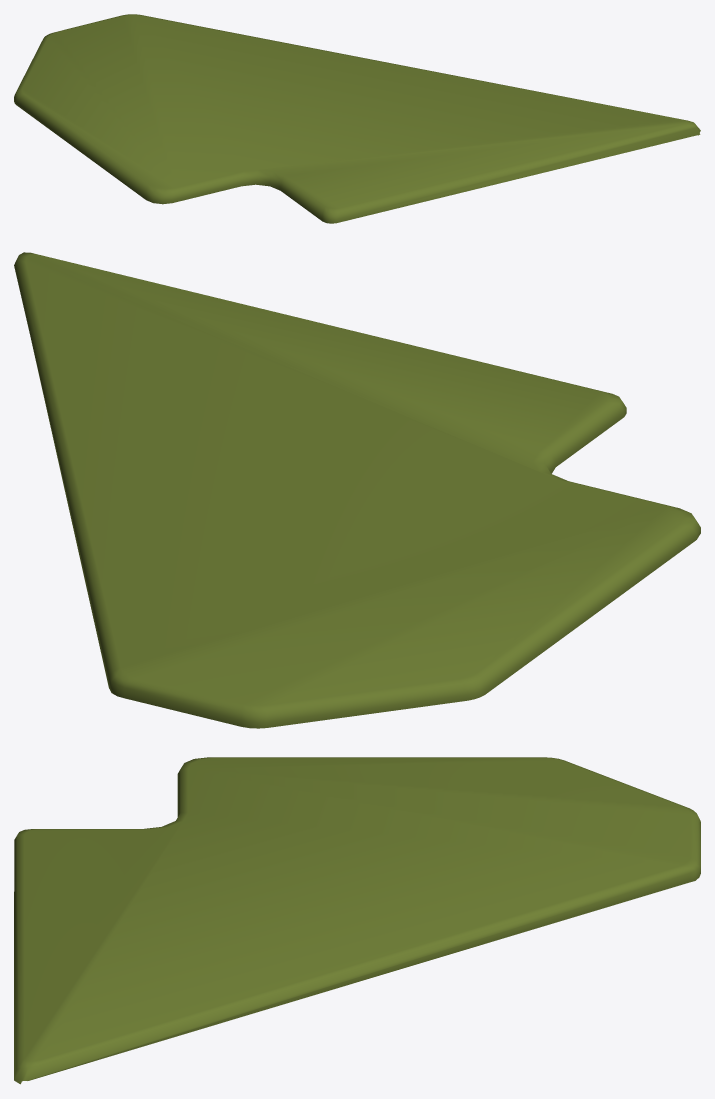
File: Floor (grass behind the house 1).fbx
The picture shows the model from 3 angles, top to bottom: view 1: azimuth 30°, elevation 25°; view 2: azimuth 150°, elevation 25°; view 3: azimuth 270°, elevation 25°; orthographic projection. The views are drawn at different scales.
Parts seen in each view (by area): view 1: Floor (grass behind the house 1); view 2: Floor (grass behind the house 1); view 3: Floor (grass behind the house 1).
Part boxes in pixels (x1,y1,x2,y2): Floor (grass behind the house 1): (14, 14, 700, 223); Floor (grass behind the house 1): (14, 252, 700, 728); Floor (grass behind the house 1): (14, 757, 700, 1084).
Bounding box in the file's own units: 22315 × 588 × 20549.
